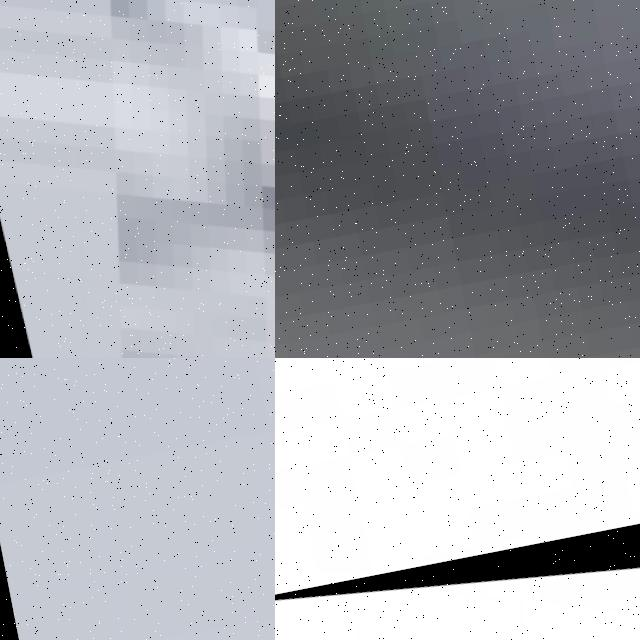drone: (0, 0, 275, 358), (275, 484, 640, 640)
